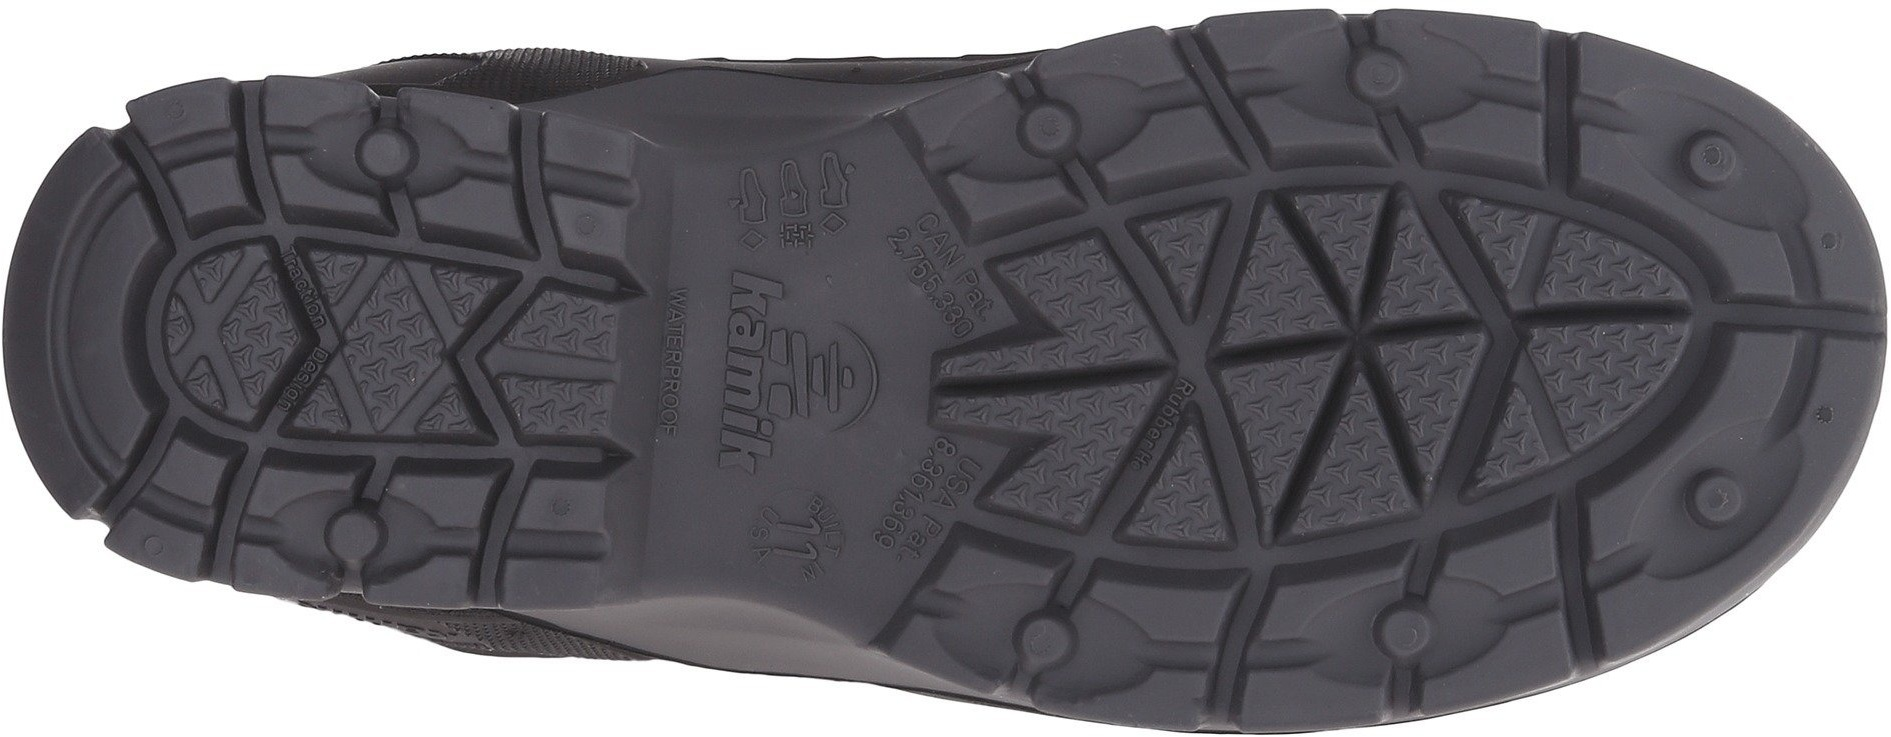circle: (999, 604, 1087, 690), (1009, 103, 1100, 176)
text: (658, 270, 889, 484), (744, 495, 855, 601), (740, 163, 849, 265), (904, 448, 961, 508)
triangle: (1141, 199, 1487, 508)
